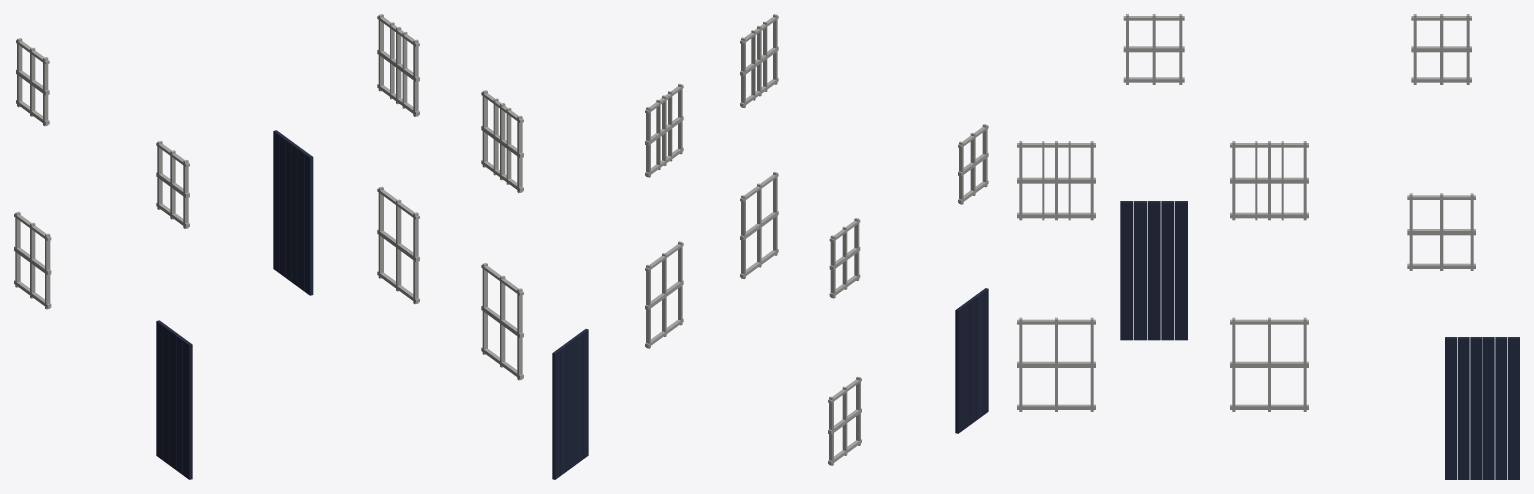
The model's file is SM_Bld_096_Wood.glb.
3 renders of one model, left to right at view 1: azimuth 30°, elevation 25°; view 2: azimuth 150°, elevation 25°; view 3: azimuth 270°, elevation 25°, orthographic. The views are drawn at different scales.
Parts seen in each view (by area): view 1: SM_Bld_096_Wood; view 2: SM_Bld_096_Wood; view 3: SM_Bld_096_Wood.
Boxes of the visible parts, x1,y1,x2,y2 form: SM_Bld_096_Wood: [14, 14, 523, 479]; SM_Bld_096_Wood: [552, 14, 988, 479]; SM_Bld_096_Wood: [1017, 14, 1519, 479].
Size of the model in its own units: 4.44 by 4.9 by 6.61.
